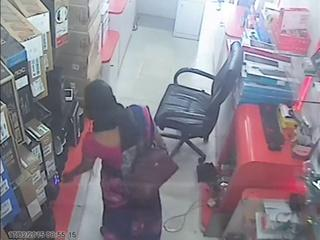Normal: (60, 79, 166, 237)
